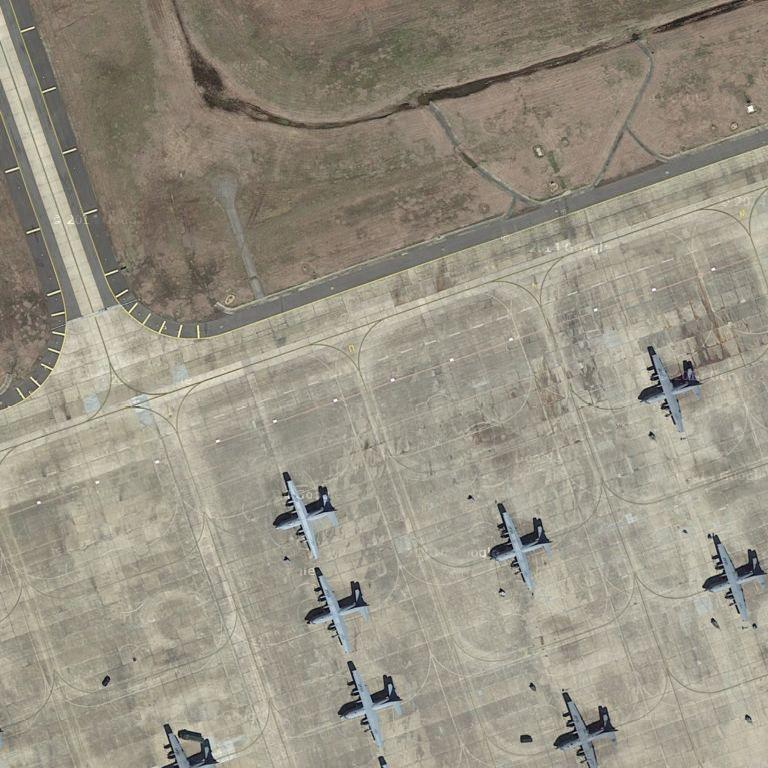C-130: (333, 658, 401, 749), (272, 475, 339, 561), (305, 565, 369, 654), (486, 504, 553, 589), (705, 533, 766, 619), (639, 349, 702, 431), (553, 689, 617, 766)
